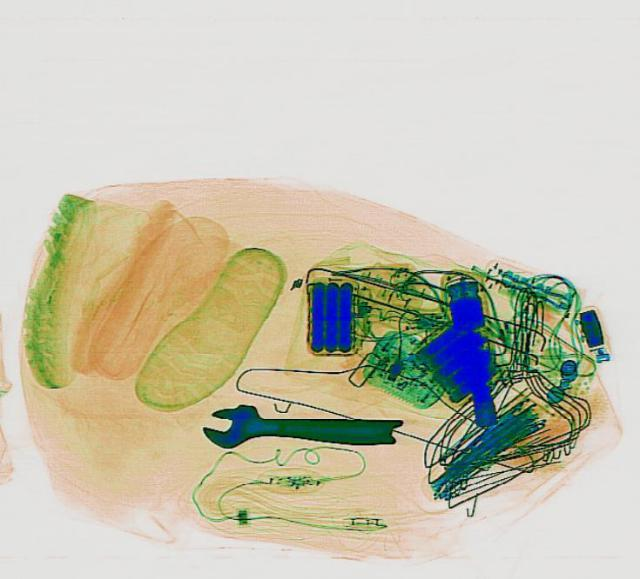Wrench: (200, 401, 402, 451)
